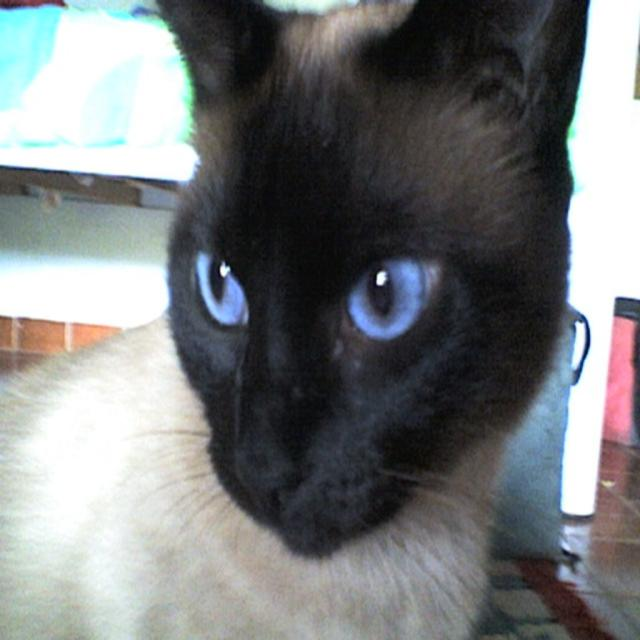Cat: (0, 0, 591, 639)
